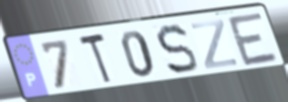0: (119, 29, 157, 80)
7: (39, 37, 73, 92)
E: (225, 10, 282, 69)
S: (154, 22, 201, 77)
T: (76, 31, 114, 88)
Z: (189, 18, 240, 72)
